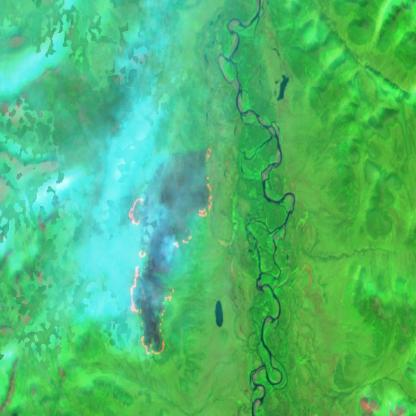fire: (117, 140, 216, 358)
